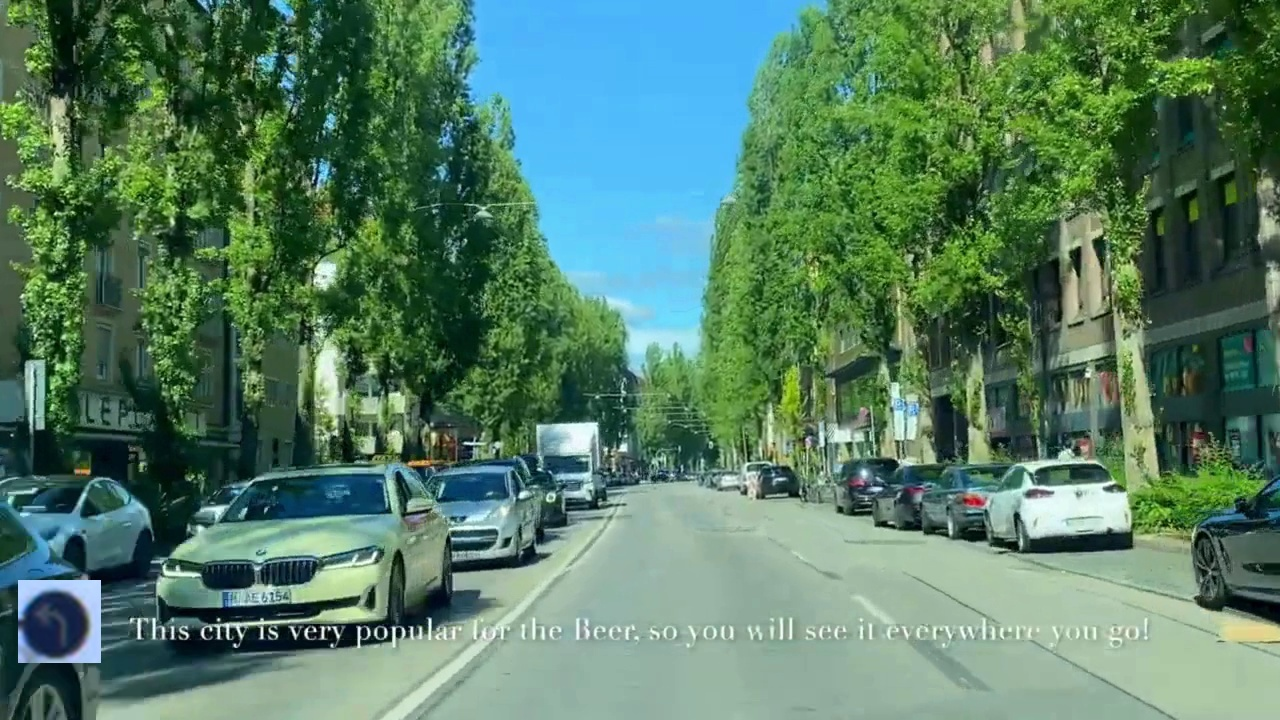Turn left: (18, 580, 101, 663)
